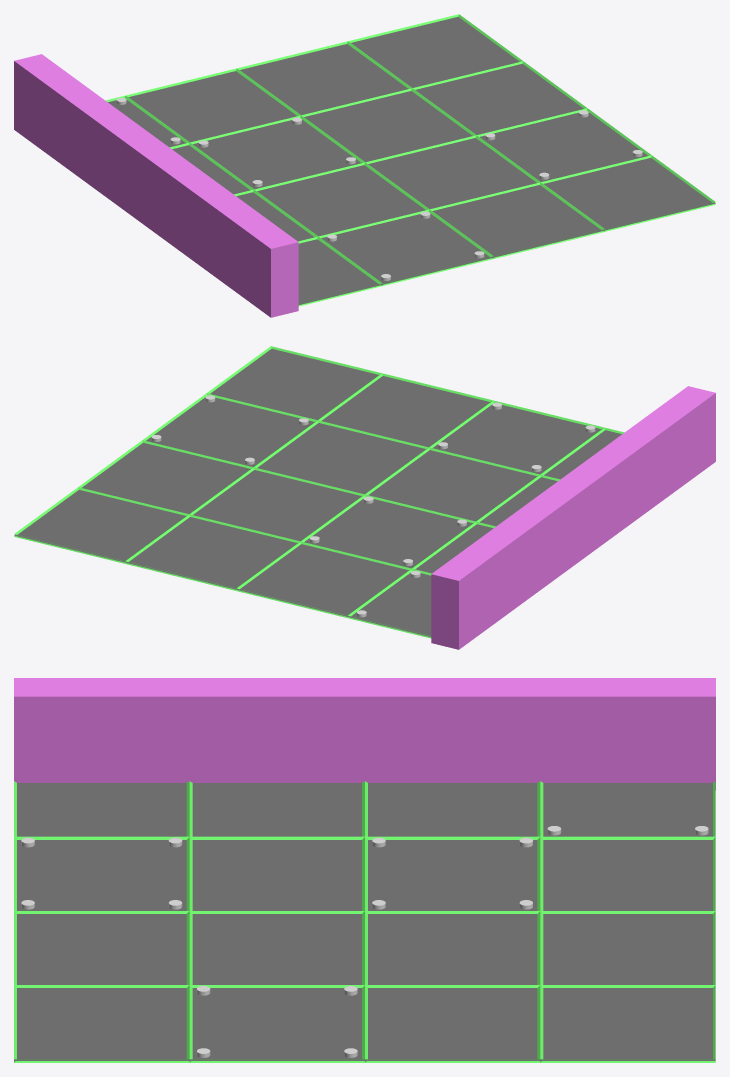
Rendered from SIDE_CELL.fbx.
3 renders of one model, top to bottom at view 1: azimuth 30°, elevation 25°; view 2: azimuth 150°, elevation 25°; view 3: azimuth 270°, elevation 25°, orthographic. The views are drawn at different scales.
Visible parts, largest first — view 1: Base_SideCell, Cube_SideCell, Rim_SideCell, Cylinder_SideCell; view 2: Base_SideCell, Cube_SideCell, Rim_SideCell, Cylinder_SideCell; view 3: Base_SideCell, Cube_SideCell, Rim_SideCell, Cylinder_SideCell.
Boxes of the visible parts, x1,y1,x2,y2 form: Base_SideCell: (108,17,715,304); Cube_SideCell: (14,54,298,317); Rim_SideCell: (105,14,715,306); Cylinder_SideCell: (116,98,642,280); Base_SideCell: (14,349,621,636); Cube_SideCell: (431,386,715,649); Rim_SideCell: (14,346,624,638); Cylinder_SideCell: (151,395,595,617); Base_SideCell: (14,783,715,1060); Cube_SideCell: (14,678,715,790); Rim_SideCell: (14,781,715,1062); Cylinder_SideCell: (21,826,708,1057).
Bounding box in the file's own units: 1 × 0.148 × 1.
